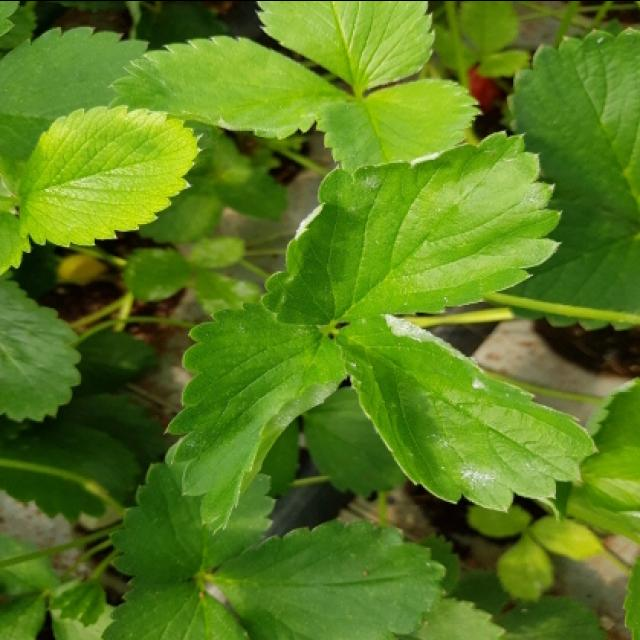Powdery Mildew Leaf: (255, 132, 564, 331), (331, 310, 601, 514), (163, 299, 348, 538)
